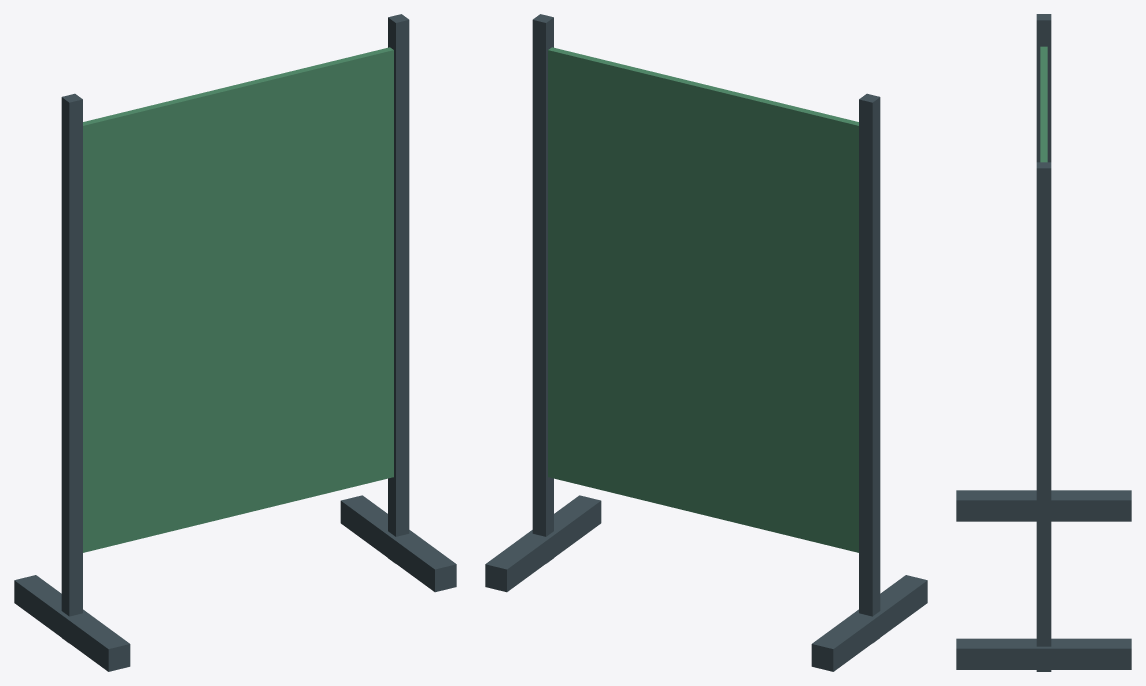
The model's file is privacy_screen.glb.
3 views of the same model, side by side, from view 1: azimuth 30°, elevation 25°; view 2: azimuth 150°, elevation 25°; view 3: azimuth 270°, elevation 25° (orthographic). The views are drawn at different scales.
Visible parts, largest first — view 1: privacy_screen; view 2: privacy_screen; view 3: privacy_screen.
Boxes of the visible parts, <box> form: privacy_screen: <box>14,14,456,671</box>; privacy_screen: <box>485,14,927,671</box>; privacy_screen: <box>956,14,1131,671</box>.
Bounding box in the file's own units: 1.28 × 1.9 × 0.6.
